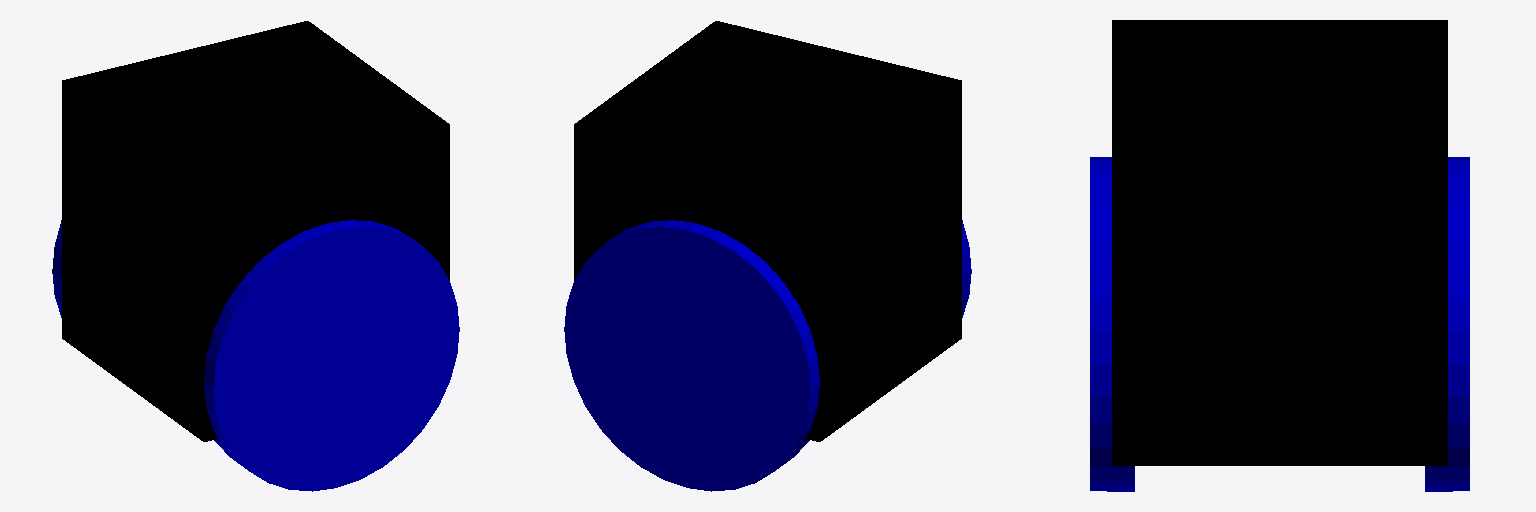
URDF robot description (test_robot):
<?xml version="1.0"?>
<robot name="test_robot">
  <link name="base_link">
    <visual name='visual'>
      <geometry>
        <box size="0.075 0.075 0.075"/>
      </geometry>
      <material name="black">
        <color rgba="0 0 0 1"/>
      </material>
    </visual>
    <collision>
      <geometry>
        <box size="0.075 0.075 0.075"/>
      </geometry>
    </collision>
    <inertial>
      <origin xyz="0 0 -0.05" rpy="0 0 0"/>
      <mass value="0.2"/>
      <inertia ixx="1e-2" ixy="0" ixz="0" iyy="1e-2" iyz="0" izz="1e-2"/>
    </inertial>
  </link>
  
  <link name="left_wheel_link">
    <visual name="visual">
      <geometry>
        <cylinder radius="0.0375" length="0.01"/>
      </geometry>
      <origin xyz="0 0 0" rpy="0 0 0"/>
      <material name="blue">
        <color rgba="0 0 .8 1"/>
      </material>
    </visual>
    <collision>
      <geometry>
        <cylinder radius="0.0375" length="0.01"/>
      </geometry>
    </collision>
    <inertial>
      <mass value="0.05"/>
      <inertia ixx="7e-5" ixy="0.0" ixz="0.0" iyy="7e-5" iyz="0.0" izz="7e-5"/>
    </inertial>
  </link>
  
  <link name="right_wheel_link">
    <visual name="visual">
      <geometry>
        <cylinder radius="0.0375" length="0.01"/>
      </geometry>
      <origin xyz="0 0 0" rpy="0 0 0"/>
      <material name="blue">
        <color rgba="0 0 .8 1"/>
      </material>
    </visual>
    <collision>
      <geometry>
        <cylinder radius="0.0375" length="0.01"/>
      </geometry>
    </collision>
    <inertial>
      <mass value="0.05"/>
      <inertia ixx="7e-5" ixy="0.0" ixz="0.0" iyy="7e-5" iyz="0.0" izz="7e-5"/>
    </inertial>
  </link>

  <joint name="left_joint" type="continuous">
    <parent link="base_link"/>
    <child link="left_wheel_link"/>
    <origin xyz="0 0.0375 -0.02" rpy="-1.57 0 0"/>
    <axis xyz="0 0 1" />
  </joint>
  
  <joint name="right_joint" type="continuous">
    <parent link="base_link"/>
    <child link="right_wheel_link"/>
    <origin xyz="0 -0.0375 -0.02" rpy="1.57 0 0"/>
    <axis xyz="0 0 1" />
  </joint>
  
  <gazebo>
    <plugin name="differential_drive_controller" filename="libgazebo_ros_diff_drive.so">
      <alwaysOn>true</alwaysOn>
      <updateRate>1000</updateRate>
      <leftJoint>left_joint</leftJoint>
      <rightJoint>right_joint</rightJoint>
      <wheelSeparation>0.075</wheelSeparation>
      <wheelDiameter>0.075</wheelDiameter>
      <torque>0.2</torque>
      <commandTopic>cmd_vel</commandTopic>
      <odometryTopic>odom</odometryTopic>
      <odometryFrame>odom</odometryFrame>
      <robotBaseFrame>base_link</robotBaseFrame>
    </plugin>
  </gazebo>
</robot>

--- What the picture shows (computed from the rendered views, not written in the file) ---
Views: 3 orthographic renders of the robot side by side, from view 1: azimuth 30°, elevation 25°; view 2: azimuth 150°, elevation 25°; view 3: azimuth 270°, elevation 25°.
Model test_robot with 3 links and 2 joints (2 continuous), rooted at base_link, posed all joints at 0.
Links seen in each view (by area): view 1: base_link, right_wheel_link, left_wheel_link; view 2: base_link, left_wheel_link, right_wheel_link; view 3: base_link, left_wheel_link, right_wheel_link.
Boxes of the visible links, <box> form: base_link: <box>62,21,449,441</box>; right_wheel_link: <box>204,220,459,491</box>; left_wheel_link: <box>52,220,61,317</box>; base_link: <box>574,21,961,441</box>; left_wheel_link: <box>564,220,819,491</box>; right_wheel_link: <box>962,220,971,317</box>; base_link: <box>1112,20,1447,465</box>; left_wheel_link: <box>1425,157,1469,491</box>; right_wheel_link: <box>1090,157,1134,491</box>.
Size in the robot's own frame: 0.075 by 0.0851 by 0.095 metres.
Geometry: primitives only (box / cylinder / sphere), no mesh files.